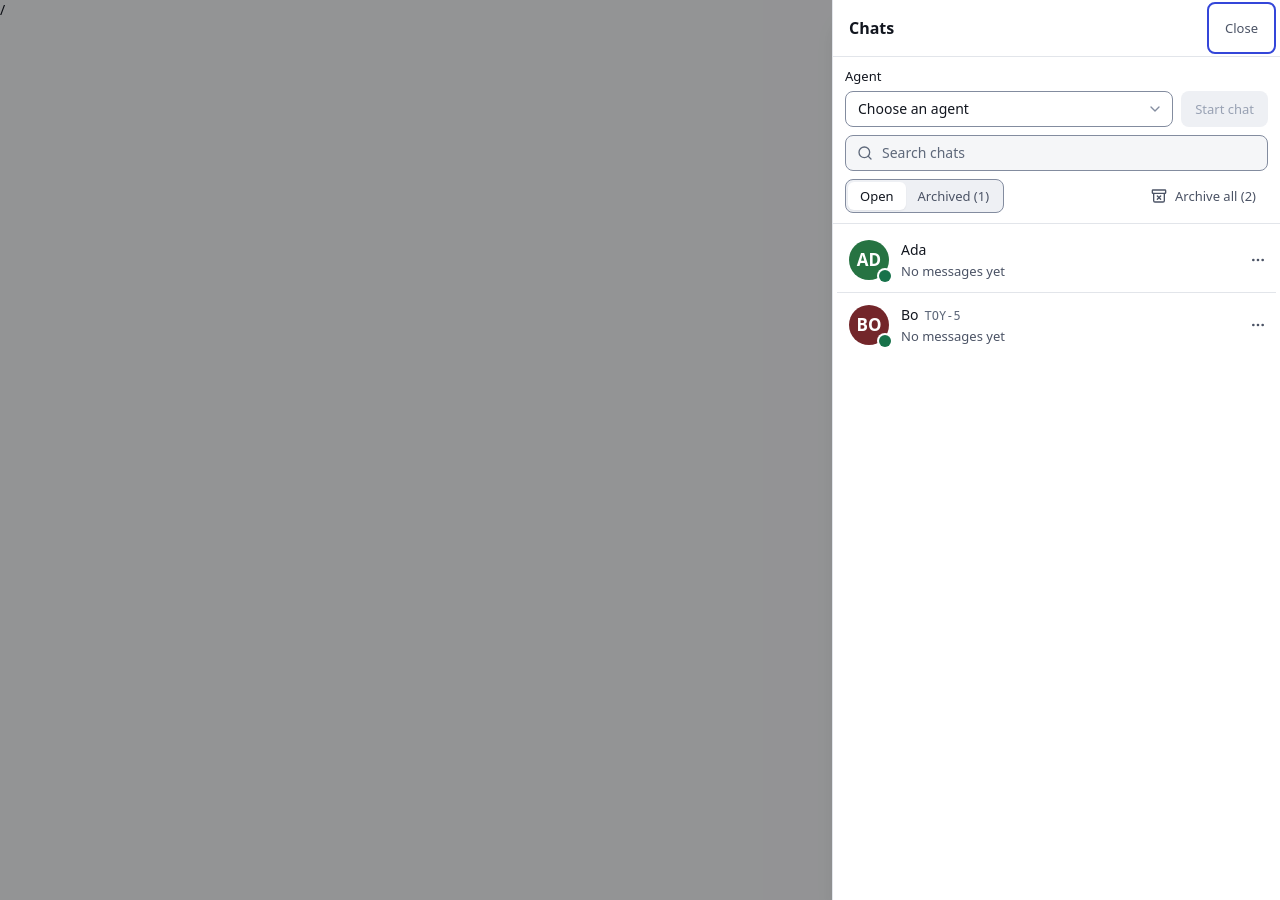
Test: chat list: close and delete › a chat linked to a card cannot be deleted, only closed
The image size is (1280, 900).
Click the button named "Actions for the chat with Bo". click: (1258, 325)
box: [1240,307,1276,343]
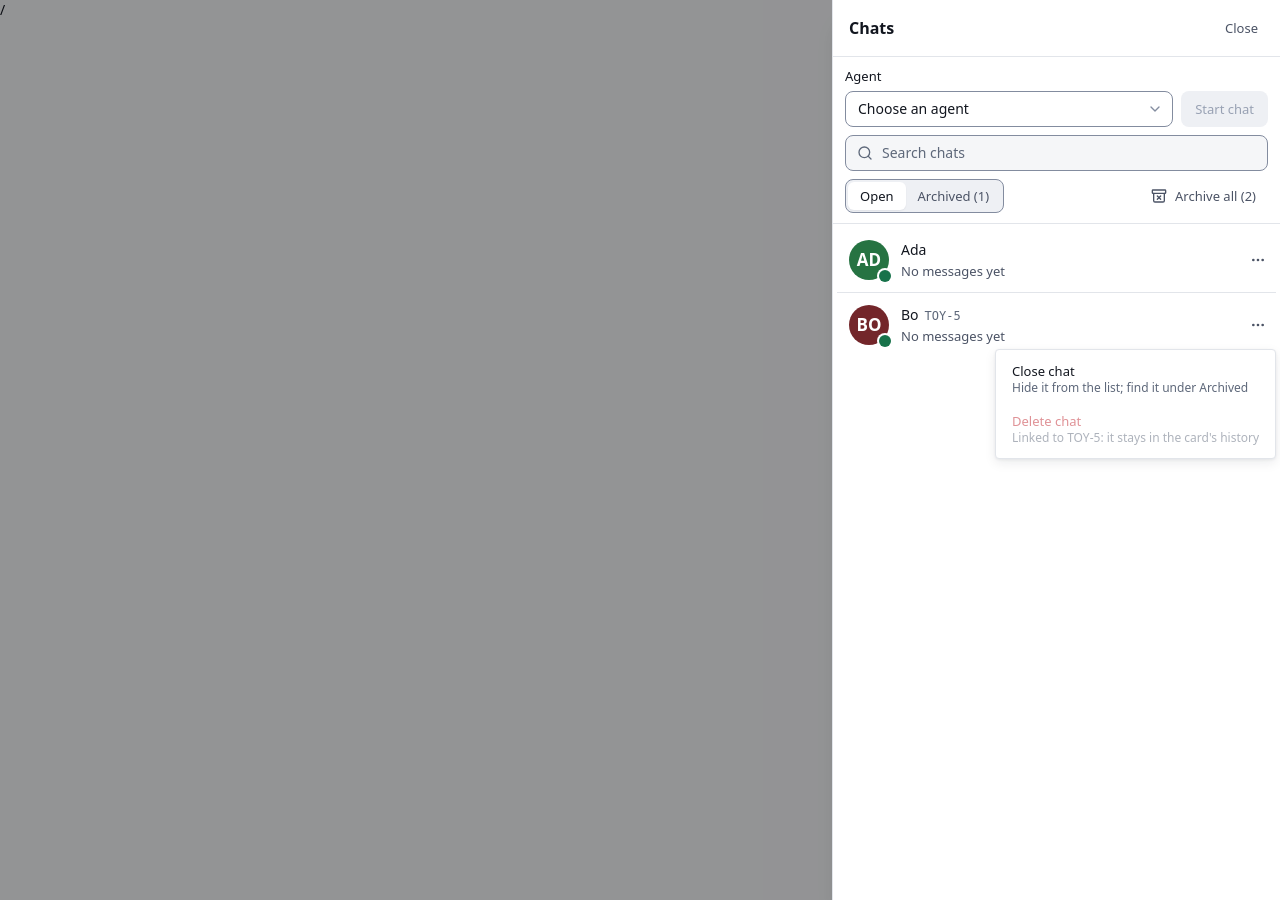
Expected: the menu item "Delete chat Linked to TOY-5: it stays in the card's history" is shown, [1000,404,1271,454]
